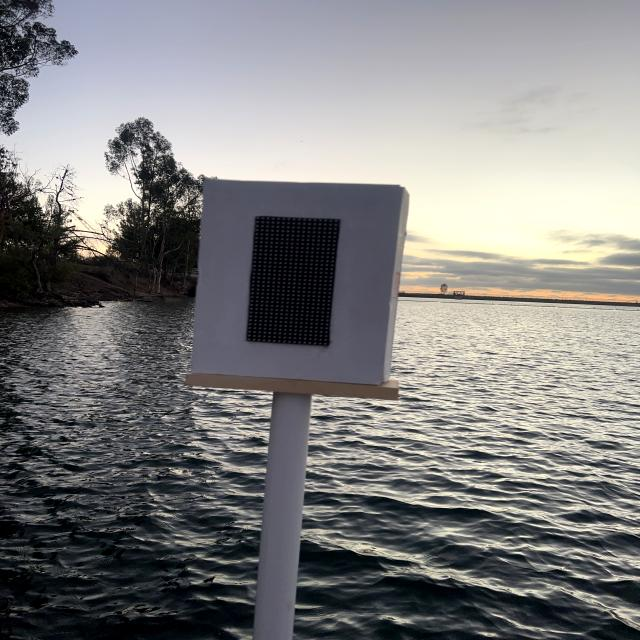led: (210, 184, 374, 380)
